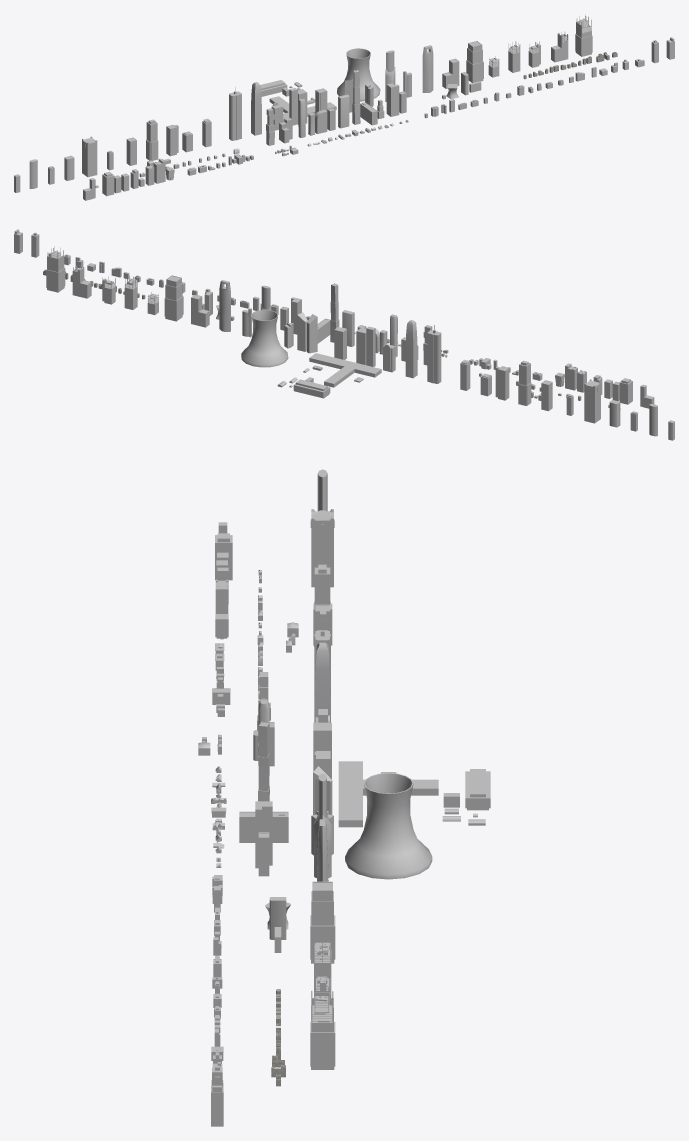
The model's file is all_buildings.FBX.
3 views of the same model, one above another, from view 1: azimuth 30°, elevation 25°; view 2: azimuth 150°, elevation 25°; view 3: azimuth 270°, elevation 25° (orthographic). The views are drawn at different scales.
Visible parts, largest first — view 1: warehouse3_e, sky1_20, sky1_11, sky1_29, sky1_05, sky1_16, sky1_04, sky1_15, sky1_21, sky6_04, sky1_28, sky5_08 (+12 smaller); view 2: warehouse3_e, warehouse3_b, sky1_20, sky1_11, sky1_15, sky1_29, sky1_05, sky1_16, sky1_04, sky1_21, sky1_28, sky1_23 (+12 smaller); view 3: warehouse3_e, warehouse3_b, sky1_29, sky1_20, sky1_05, sky1_16, sky6_05, warehouse1_a, sky1_06.
Part boxes in pixels (<box>): warehouse3_e: <box>337,48,380,101</box>; sky1_20: <box>466,41,483,82</box>; sky1_11: <box>229,87,241,140</box>; sky1_29: <box>575,14,592,56</box>; sky1_05: <box>82,136,97,177</box>; sky1_16: <box>251,82,261,135</box>; sky1_04: <box>422,45,433,92</box>; sky1_15: <box>289,88,307,125</box>; sky1_21: <box>146,119,158,160</box>; sky6_04: <box>386,83,399,116</box>; sky1_28: <box>551,31,568,62</box>; sky5_08: <box>352,70,360,124</box>; warehouse3_e: <box>241,309,288,367</box>; warehouse3_b: <box>309,353,381,387</box>; sky1_20: <box>164,275,183,321</box>; sky1_11: <box>427,325,441,383</box>; sky1_15: <box>356,326,375,366</box>; sky1_29: <box>46,246,65,292</box>; sky1_05: <box>584,379,600,423</box>; sky1_16: <box>405,320,417,378</box>; sky1_04: <box>219,280,230,331</box>; sky1_21: <box>518,360,531,405</box>; sky1_28: <box>72,265,91,298</box>; sky1_23: <box>495,366,509,400</box>; warehouse3_e: <box>345,773,432,879</box>; warehouse3_b: <box>338,761,438,827</box>; sky1_29: <box>310,987,335,1069</box>; sky1_20: <box>310,881,335,963</box>; sky1_05: <box>310,509,334,587</box>; sky1_16: <box>314,642,330,722</box>; sky6_05: <box>239,811,288,842</box>; warehouse1_a: <box>465,769,490,810</box>; sky1_06: <box>314,773,331,877</box>.
Size of the model in its own units: 2879 by 227 by 576.
